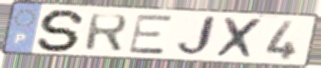4: (263, 19, 300, 62)
E: (127, 14, 175, 56)
J: (173, 14, 219, 59)
R: (83, 12, 130, 53)
S: (35, 8, 89, 53)
X: (214, 16, 266, 61)
